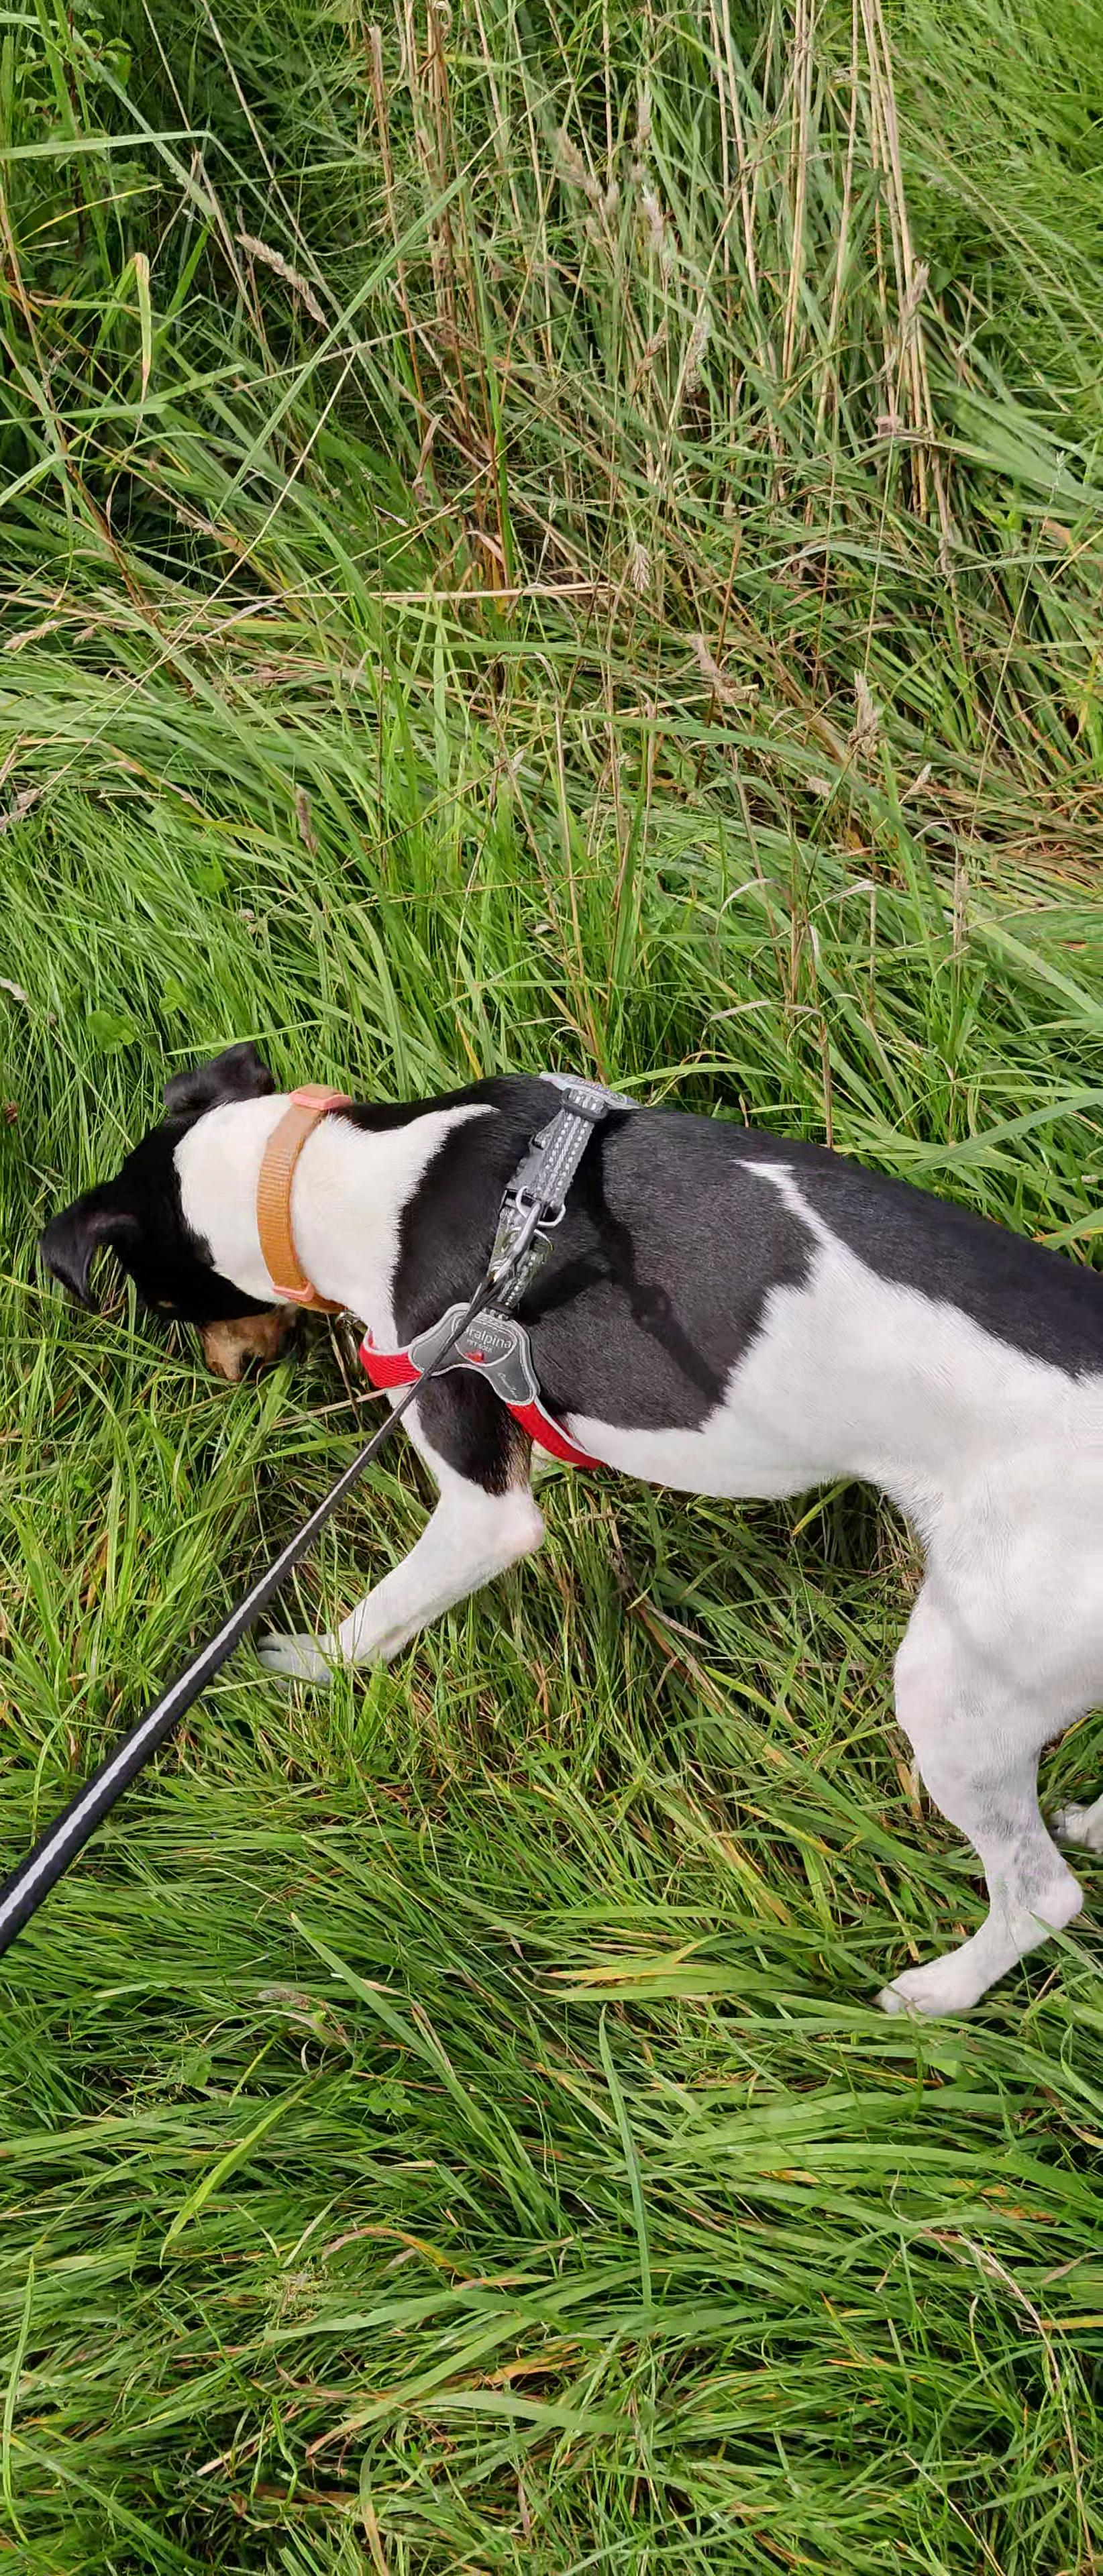Dog: (15, 1033, 1103, 2019)
